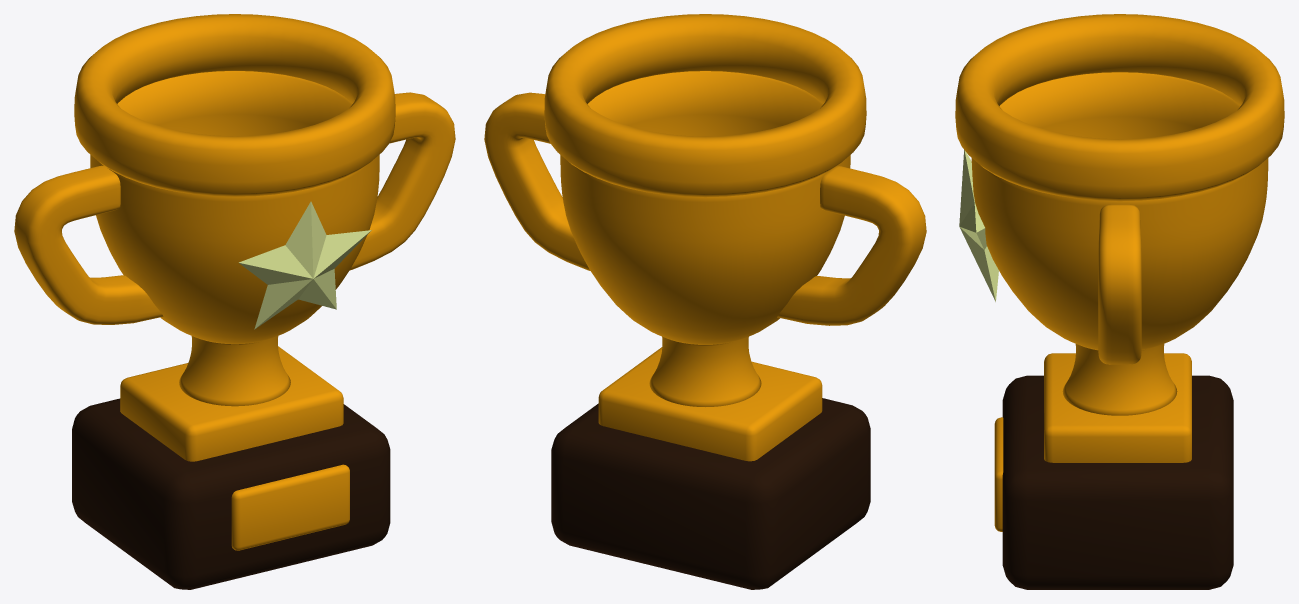
File: trophy_cup.glb
The picture shows the model from 3 angles, left to right: view 1: azimuth 30°, elevation 25°; view 2: azimuth 150°, elevation 25°; view 3: azimuth 270°, elevation 25°; orthographic projection. The views are drawn at different scales.
Parts seen in each view (by area): view 1: Circle.006, Circle.007, Cube.003, Cube.005, Cube.004, Cube.006, Star; view 2: Circle.006, Cube.003, Circle.007, Cube.005, Cube.004; view 3: Circle.006, Circle.007, Cube.003, Cube.004, Cube.005, Star, Cube.006.
Part boxes in pixels (bbox=[...]): Circle.006: bbox=[90, 71, 379, 406]; Circle.007: bbox=[74, 14, 395, 196]; Cube.003: bbox=[72, 398, 390, 589]; Cube.005: bbox=[14, 92, 455, 324]; Cube.004: bbox=[120, 346, 343, 461]; Cube.006: bbox=[231, 464, 349, 550]; Star: bbox=[238, 201, 371, 329]; Circle.006: bbox=[560, 71, 850, 406]; Cube.003: bbox=[551, 398, 870, 589]; Circle.007: bbox=[544, 14, 866, 197]; Cube.005: bbox=[484, 92, 926, 325]; Cube.004: bbox=[598, 347, 822, 461]; Circle.006: bbox=[971, 72, 1268, 415]; Circle.007: bbox=[955, 14, 1284, 201]; Cube.003: bbox=[1002, 375, 1233, 589]; Cube.004: bbox=[1044, 353, 1191, 462]; Cube.005: bbox=[1098, 204, 1141, 364]; Star: bbox=[959, 150, 998, 301]; Cube.006: bbox=[994, 417, 1003, 531].
Size of the model in its own units: 3.26 by 3.3 by 2.12.
